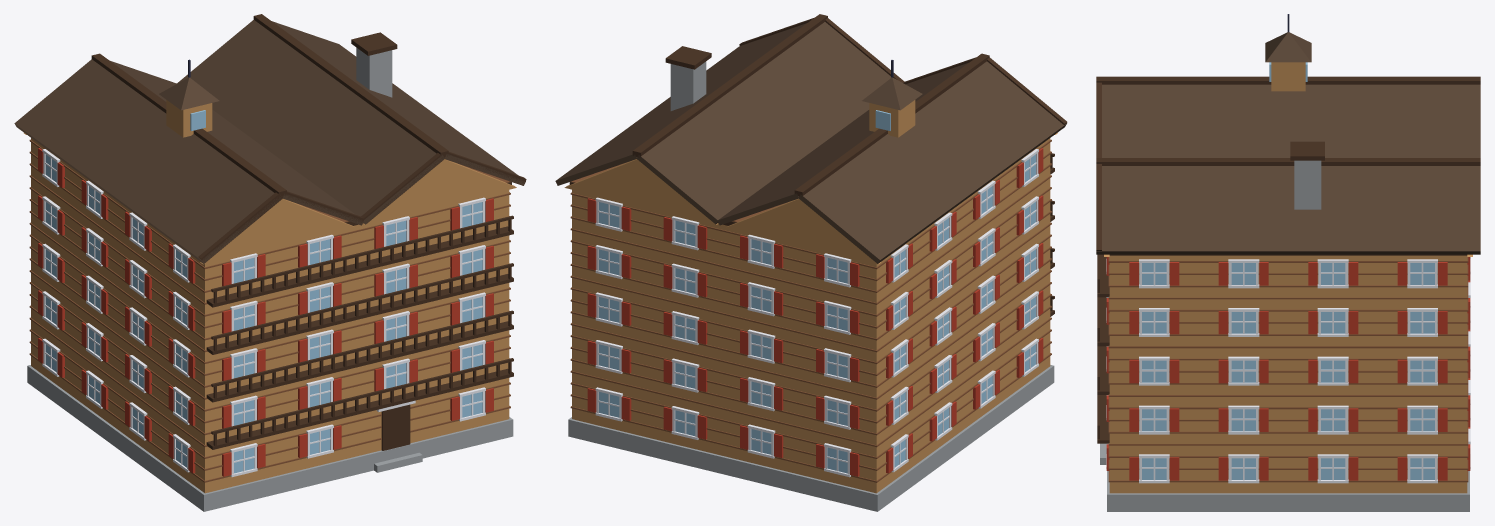
The model's file is house-2x2-5f-chalet-a.glb.
3 views of the same model, side by side, from view 1: azimuth 30°, elevation 25°; view 2: azimuth 150°, elevation 25°; view 3: azimuth 270°, elevation 25° (orthographic). The views are drawn at different scales.
Visible parts, largest first — view 1: house-2x2-5f-chalet-a; view 2: house-2x2-5f-chalet-a; view 3: house-2x2-5f-chalet-a.
Boxes of the visible parts, x1,y1,x2,y2 form: house-2x2-5f-chalet-a: [14, 14, 526, 511]; house-2x2-5f-chalet-a: [555, 14, 1067, 511]; house-2x2-5f-chalet-a: [1096, 14, 1480, 511].
Bounding box in the file's own units: 2.01 × 2.18 × 2.
1 material, 1 textured.
